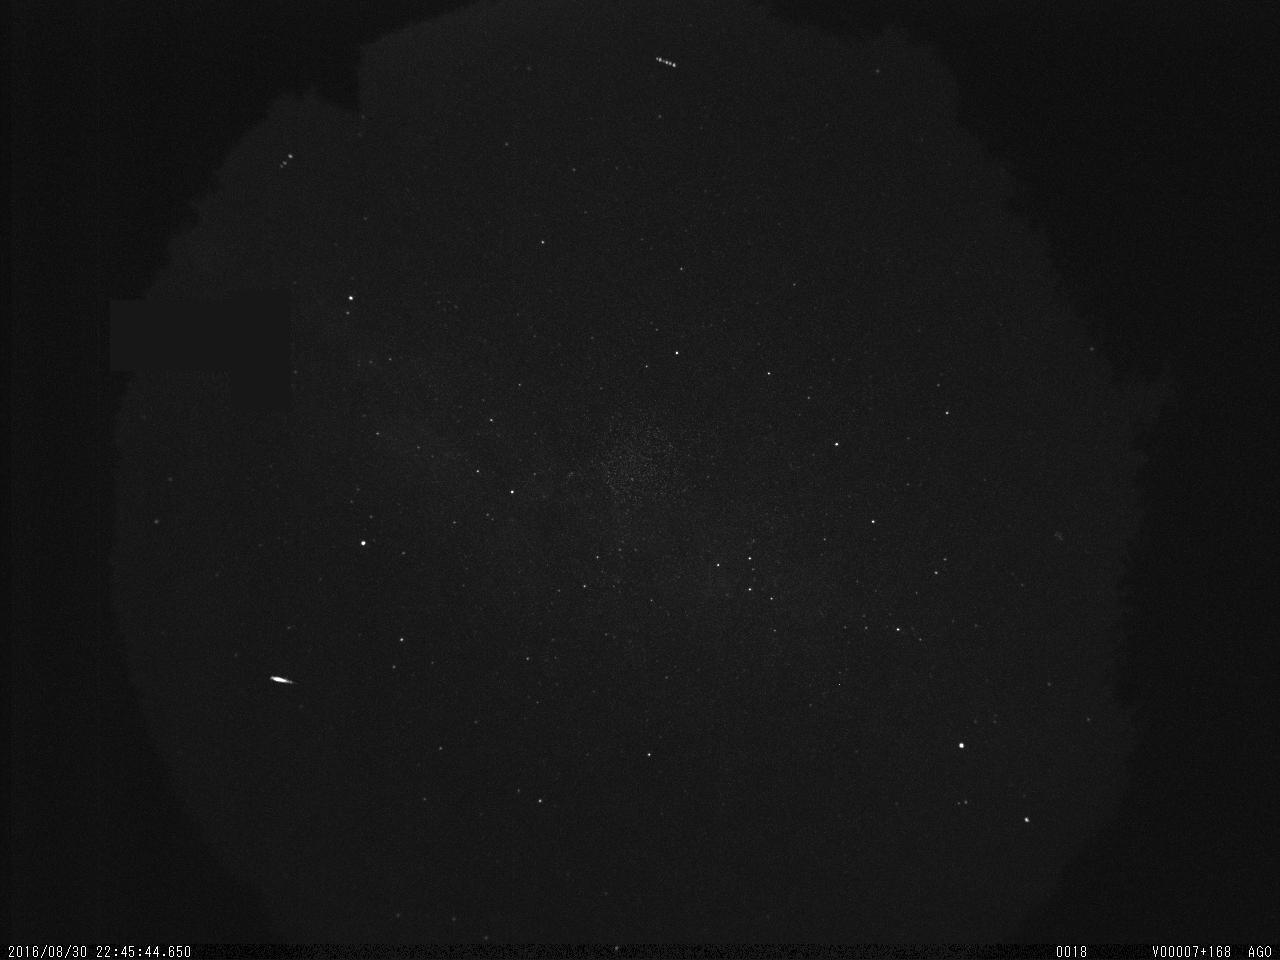meteor: (269, 666, 299, 692)
satelite: (649, 49, 686, 74), (273, 150, 301, 176)
